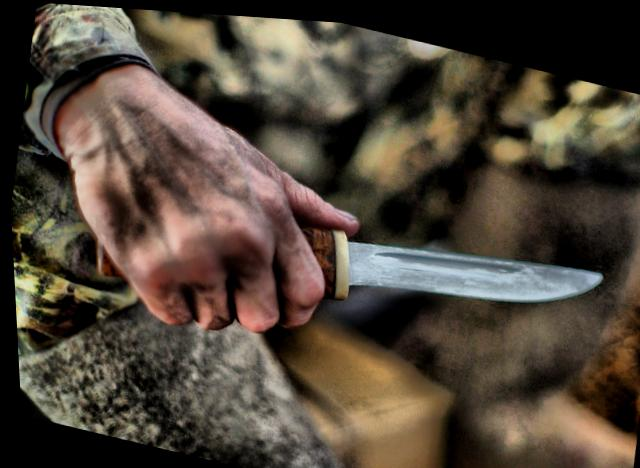knife: (182, 148, 622, 421)
